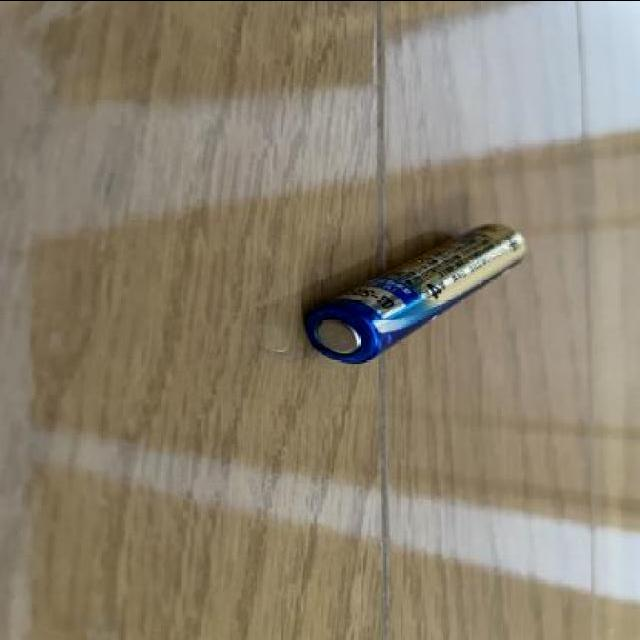AA: (306, 220, 526, 369)
